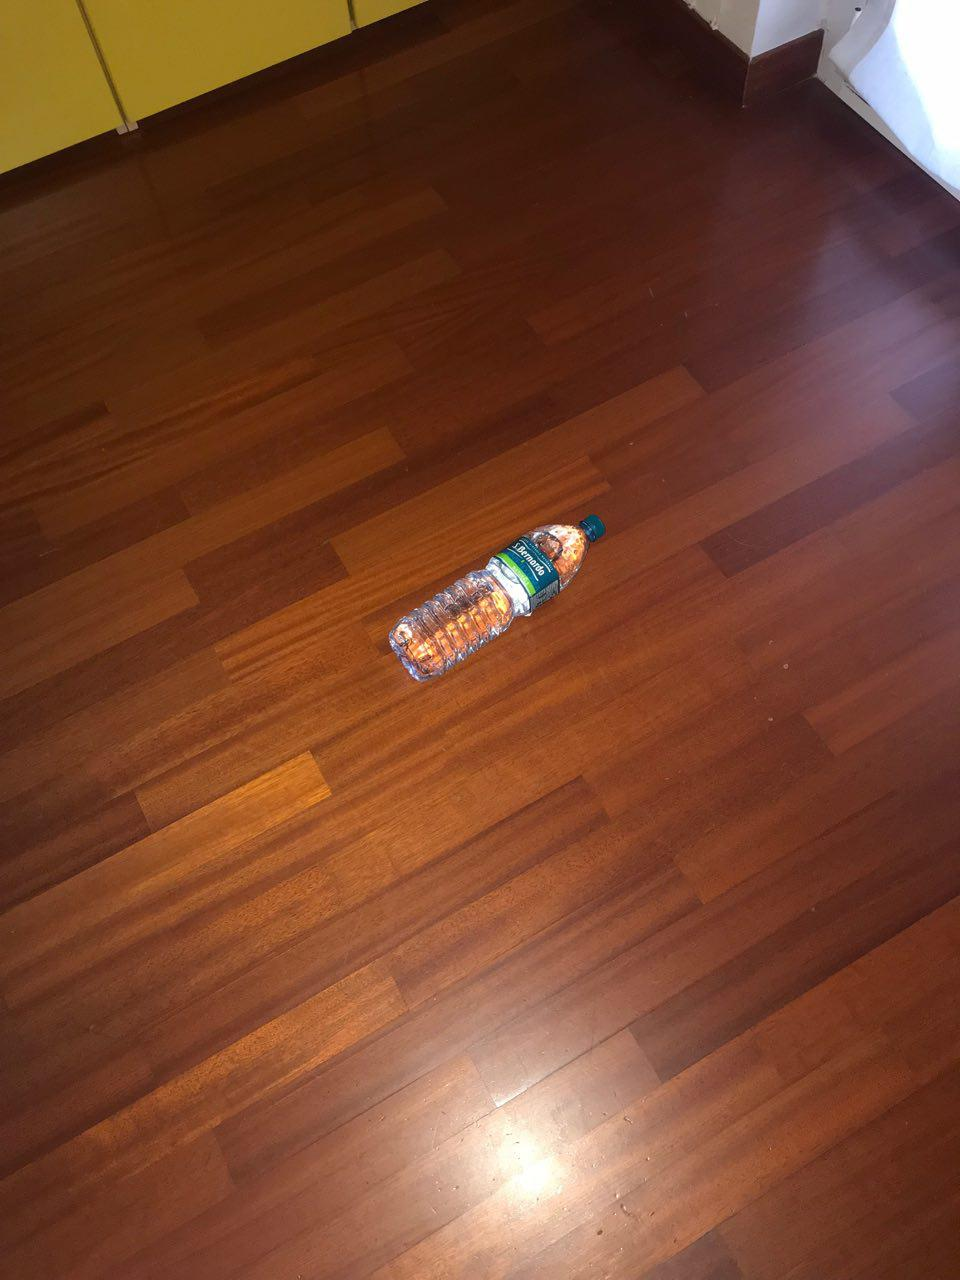san_bernardo: (389, 514, 608, 683)
